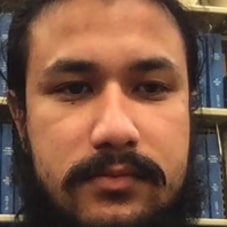awake: (39, 43, 183, 218)
